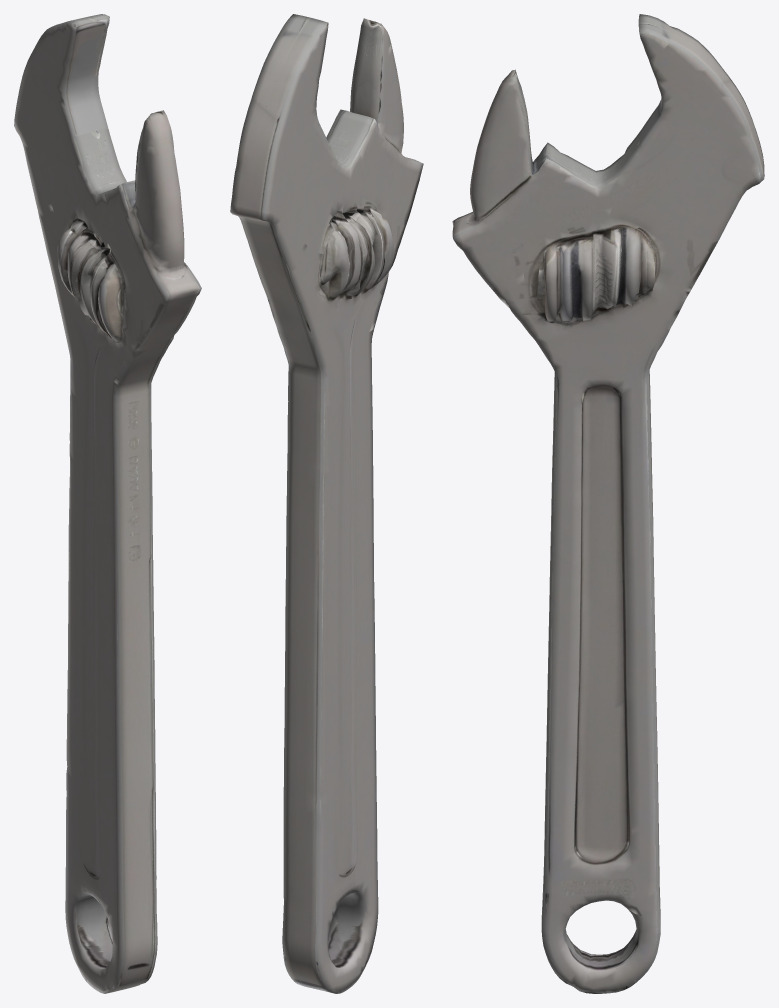
Rendered from Monkey_Spanner.glb.
3 views of the same model, side by side, from view 1: azimuth 30°, elevation 25°; view 2: azimuth 150°, elevation 25°; view 3: azimuth 270°, elevation 25° (orthographic). The views are drawn at different scales.
Parts seen in each view (by area): view 1: Mesh_0; view 2: Mesh_0; view 3: Mesh_0.
Boxes of the visible parts, box(x1,y1,x2,y2) form: Mesh_0: box(14, 14, 201, 993); Mesh_0: box(230, 14, 423, 993); Mesh_0: box(452, 14, 764, 993).
Size of the model in its own units: 0.1663 by 2 by 0.5876.
Materials: 1 (1 with a texture image).
